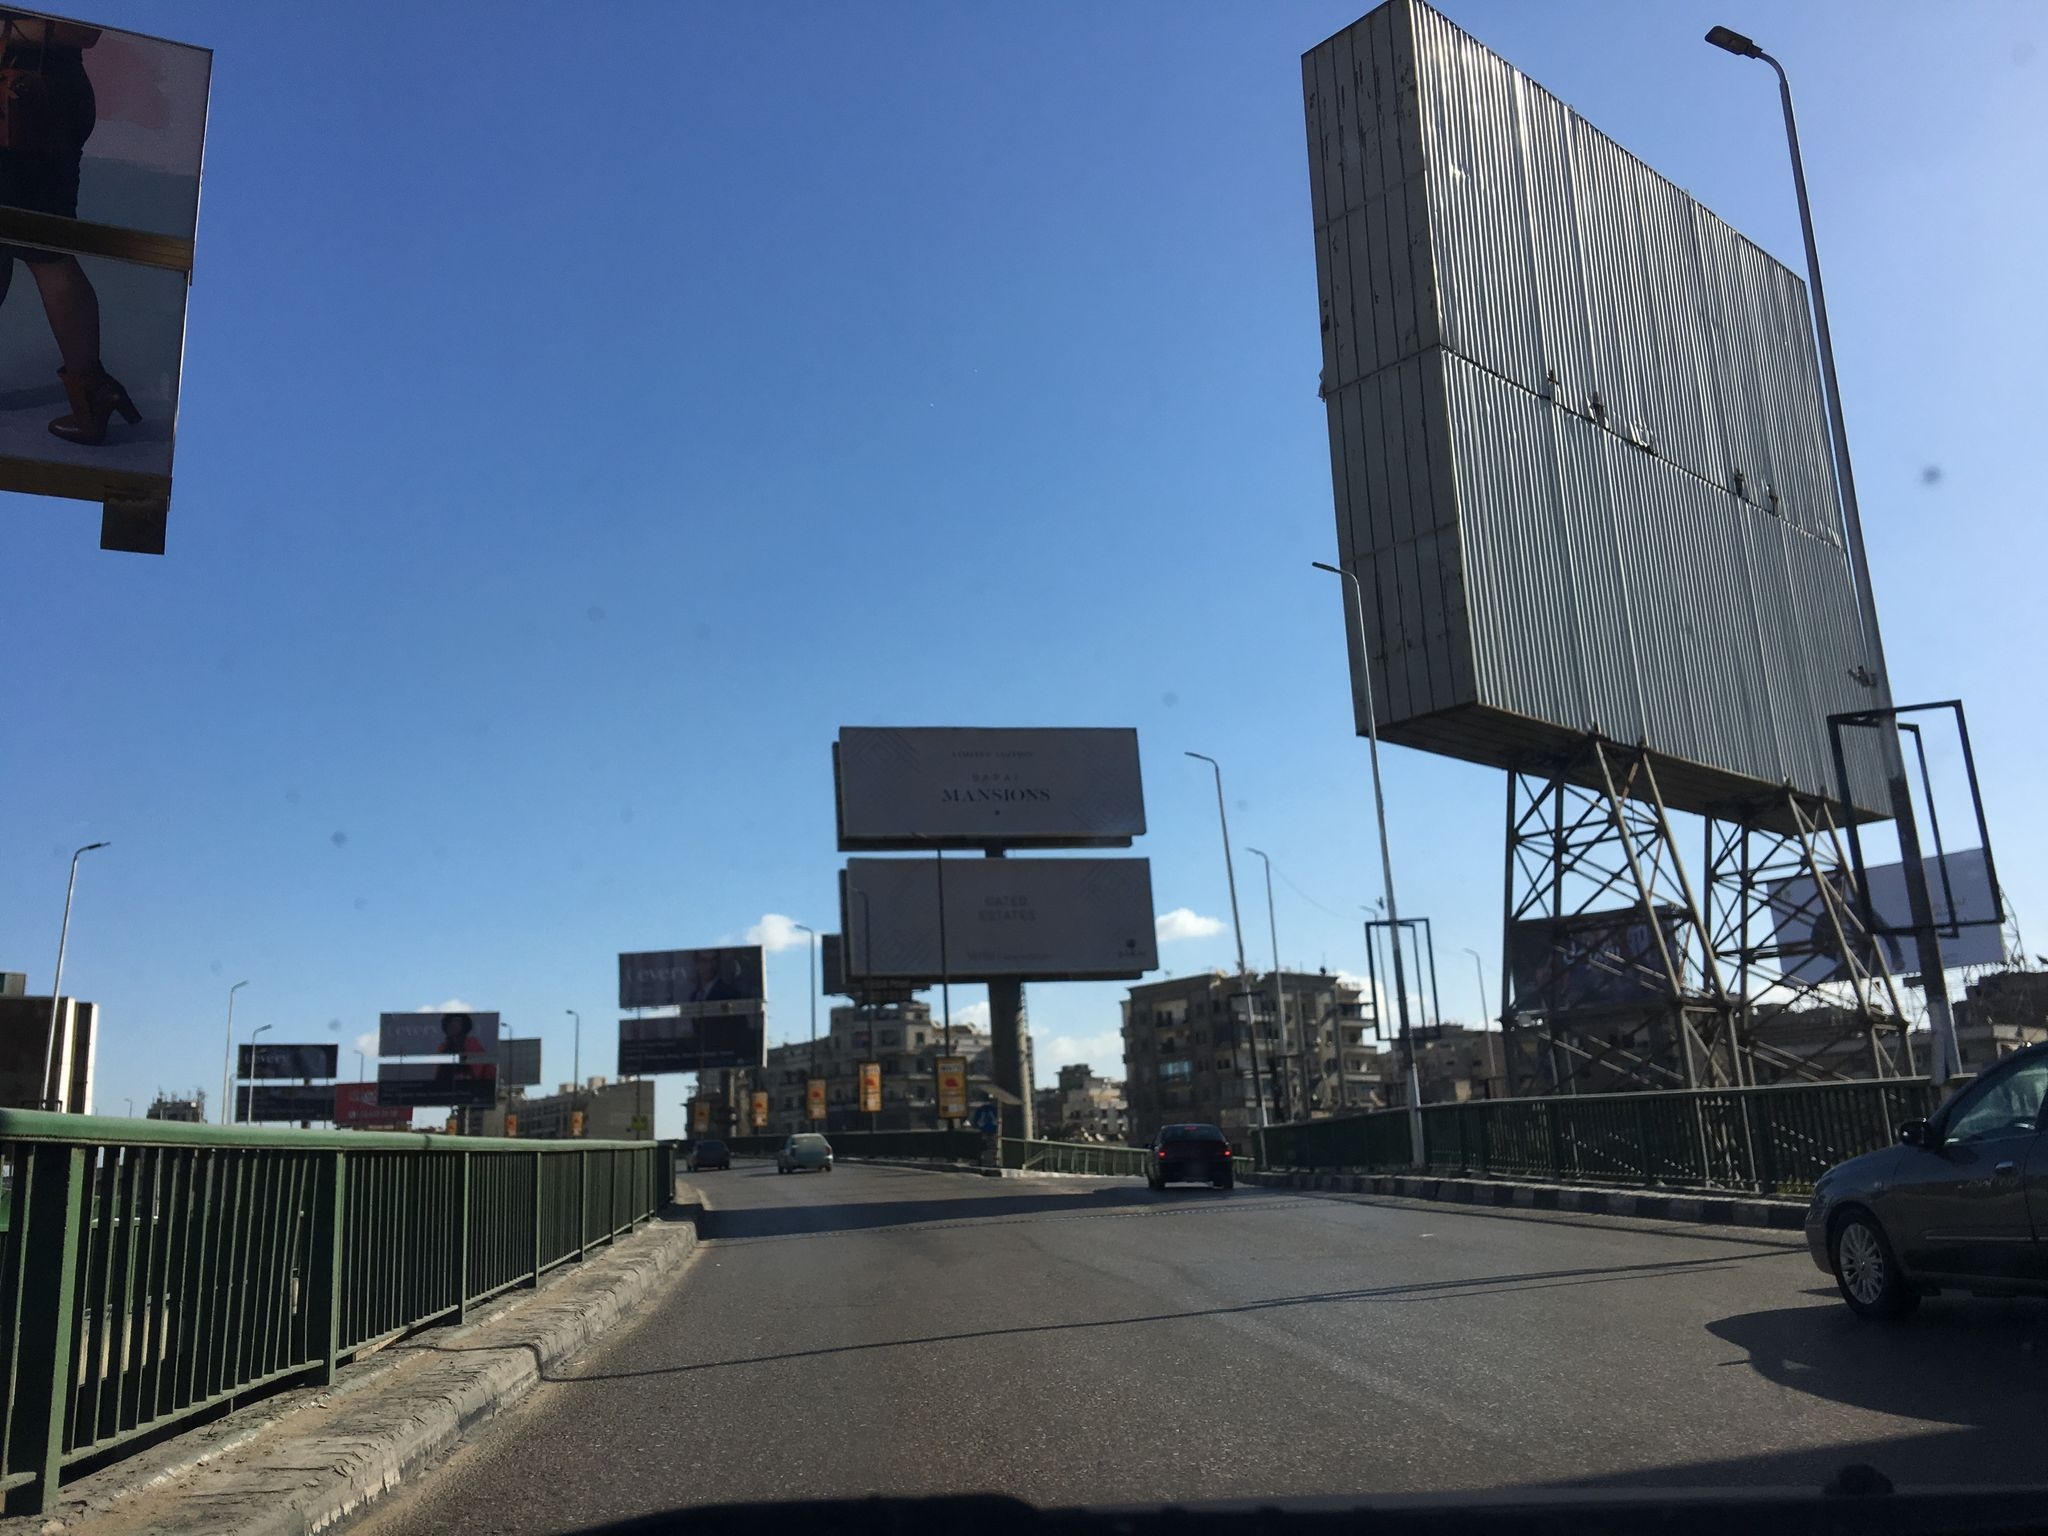car: (1801, 1037, 2048, 1317), (1143, 1123, 1235, 1189), (777, 1133, 834, 1171), (685, 1139, 731, 1170)
